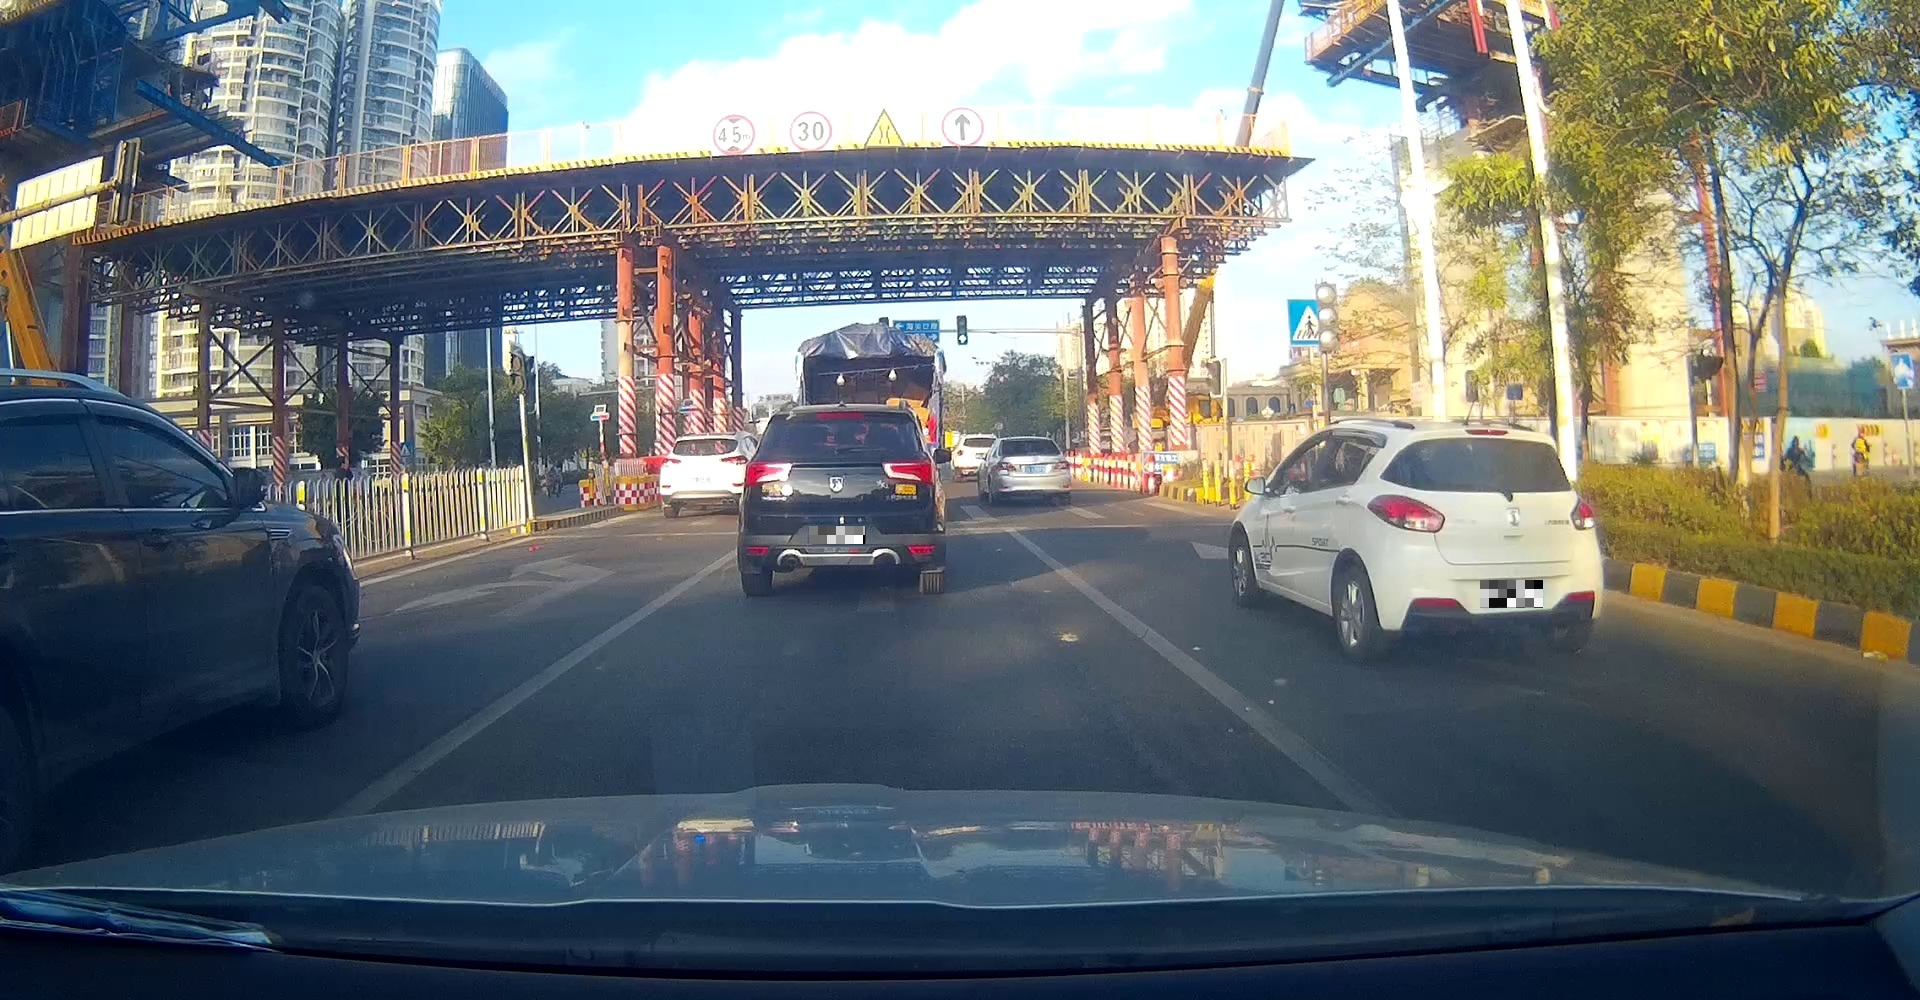L_light: (1366, 492, 1446, 533), (744, 459, 792, 487), (997, 461, 1017, 471), (662, 457, 681, 467)
R_light: (880, 459, 936, 487), (1570, 494, 1597, 530), (720, 456, 749, 464), (1053, 459, 1069, 470)
T_light: (814, 410, 865, 420), (1464, 426, 1509, 438), (1023, 437, 1037, 442), (700, 437, 712, 440)
day-no: (1363, 426, 1599, 660), (743, 404, 936, 595), (660, 434, 750, 518), (997, 437, 1070, 505)
plate_1: (809, 525, 865, 544)
plate_2: (1481, 580, 1543, 608)
